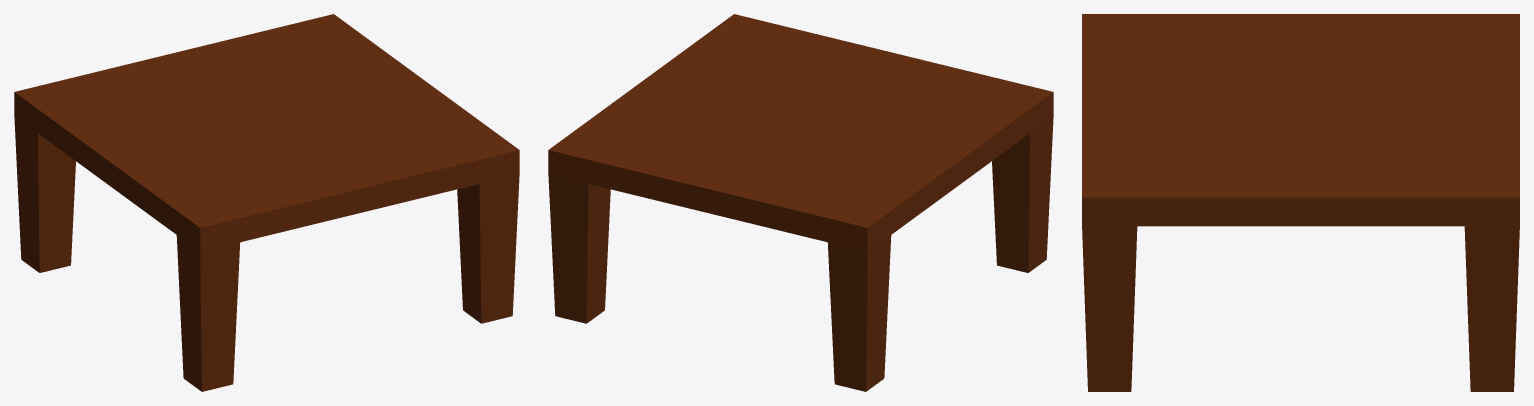
File: stół.fbx
The picture shows the model from 3 angles, left to right: view 1: azimuth 30°, elevation 25°; view 2: azimuth 150°, elevation 25°; view 3: azimuth 270°, elevation 25°; orthographic projection. The views are drawn at different scales.
Parts seen in each view (by area): view 1: Cube; view 2: Cube; view 3: Cube.
Part boxes in pixels (<box>): Cube: <box>14,14,519,391</box>; Cube: <box>548,14,1053,391</box>; Cube: <box>1082,14,1519,391</box>.
Bounding box in the file's own units: 393 × 197 × 396.
